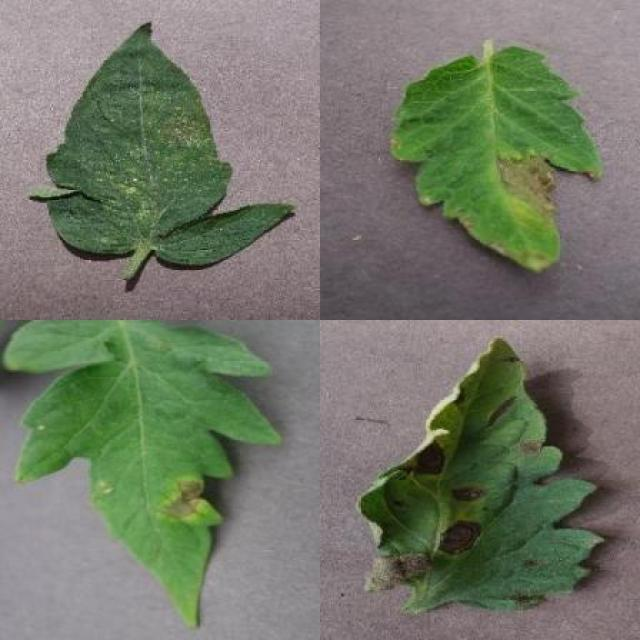Early Blight: (357, 334, 606, 620)
Late Blight: (3, 320, 284, 631), (389, 44, 601, 275)
Spider Mites: (27, 20, 294, 267)
